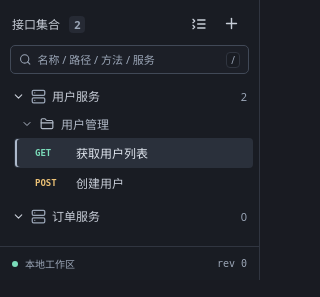
Test: 右键 用户服务 可在对应位置添加接口，不切换选中接口
Right-click the button "用户服务 2" at point(130, 96), box left=6, top=82, right=253, bottom=110
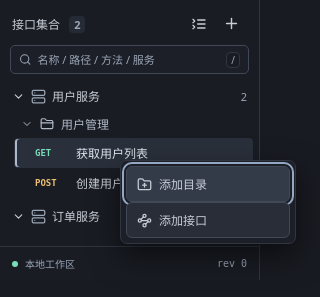
Expected: the menu named "添加目录或接口" is shown, left=120, top=160, right=296, bottom=244
Click the menu item "添加接口". click: point(208, 220)
box: left=126, top=202, right=290, bottom=238
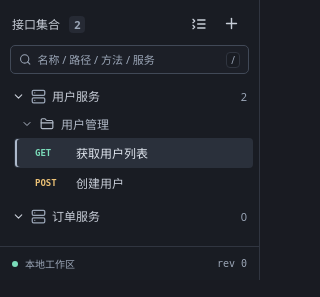
Expected: the menu is gone
